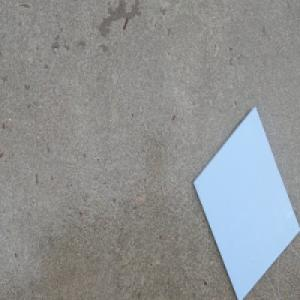PaintChip: (192, 105, 300, 300)
